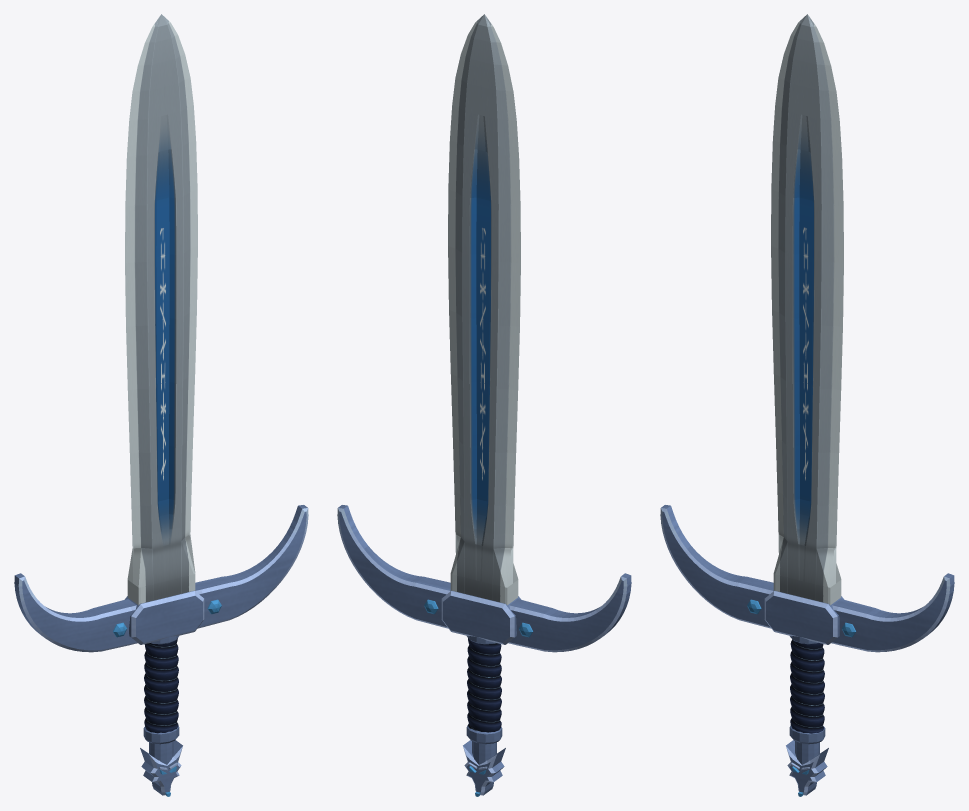
Rendered from sword_vardheim.glb.
3 views of the same model, side by side, from view 1: azimuth 30°, elevation 25°; view 2: azimuth 150°, elevation 25°; view 3: azimuth 330°, elevation 25° (orthographic).
Visible parts, largest first — view 1: Sword_LOD0; view 2: Sword_LOD0; view 3: Sword_LOD0.
Part boxes in pixels (bbox=[...]): Sword_LOD0: bbox=[14, 14, 308, 796]; Sword_LOD0: bbox=[337, 14, 631, 796]; Sword_LOD0: bbox=[660, 14, 954, 796].
Size of what is drawn, in the model's own units: 0.4285 by 1.1 by 0.041.
3 materials, 3 textured.
